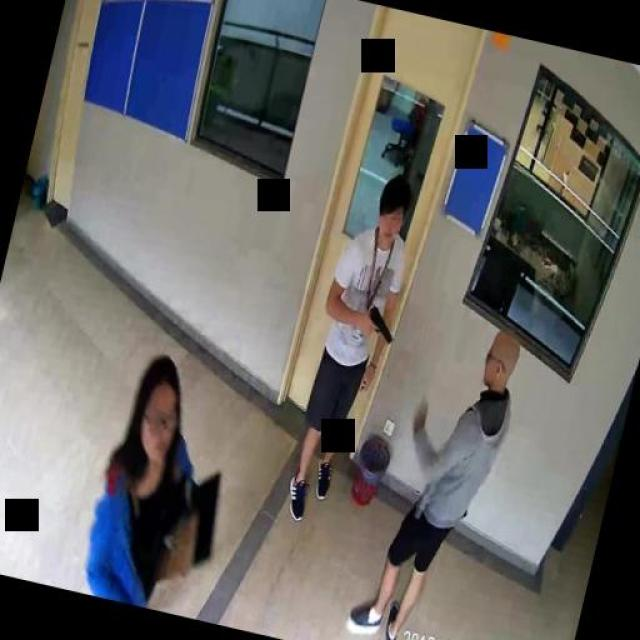gun: (362, 302, 398, 343)
